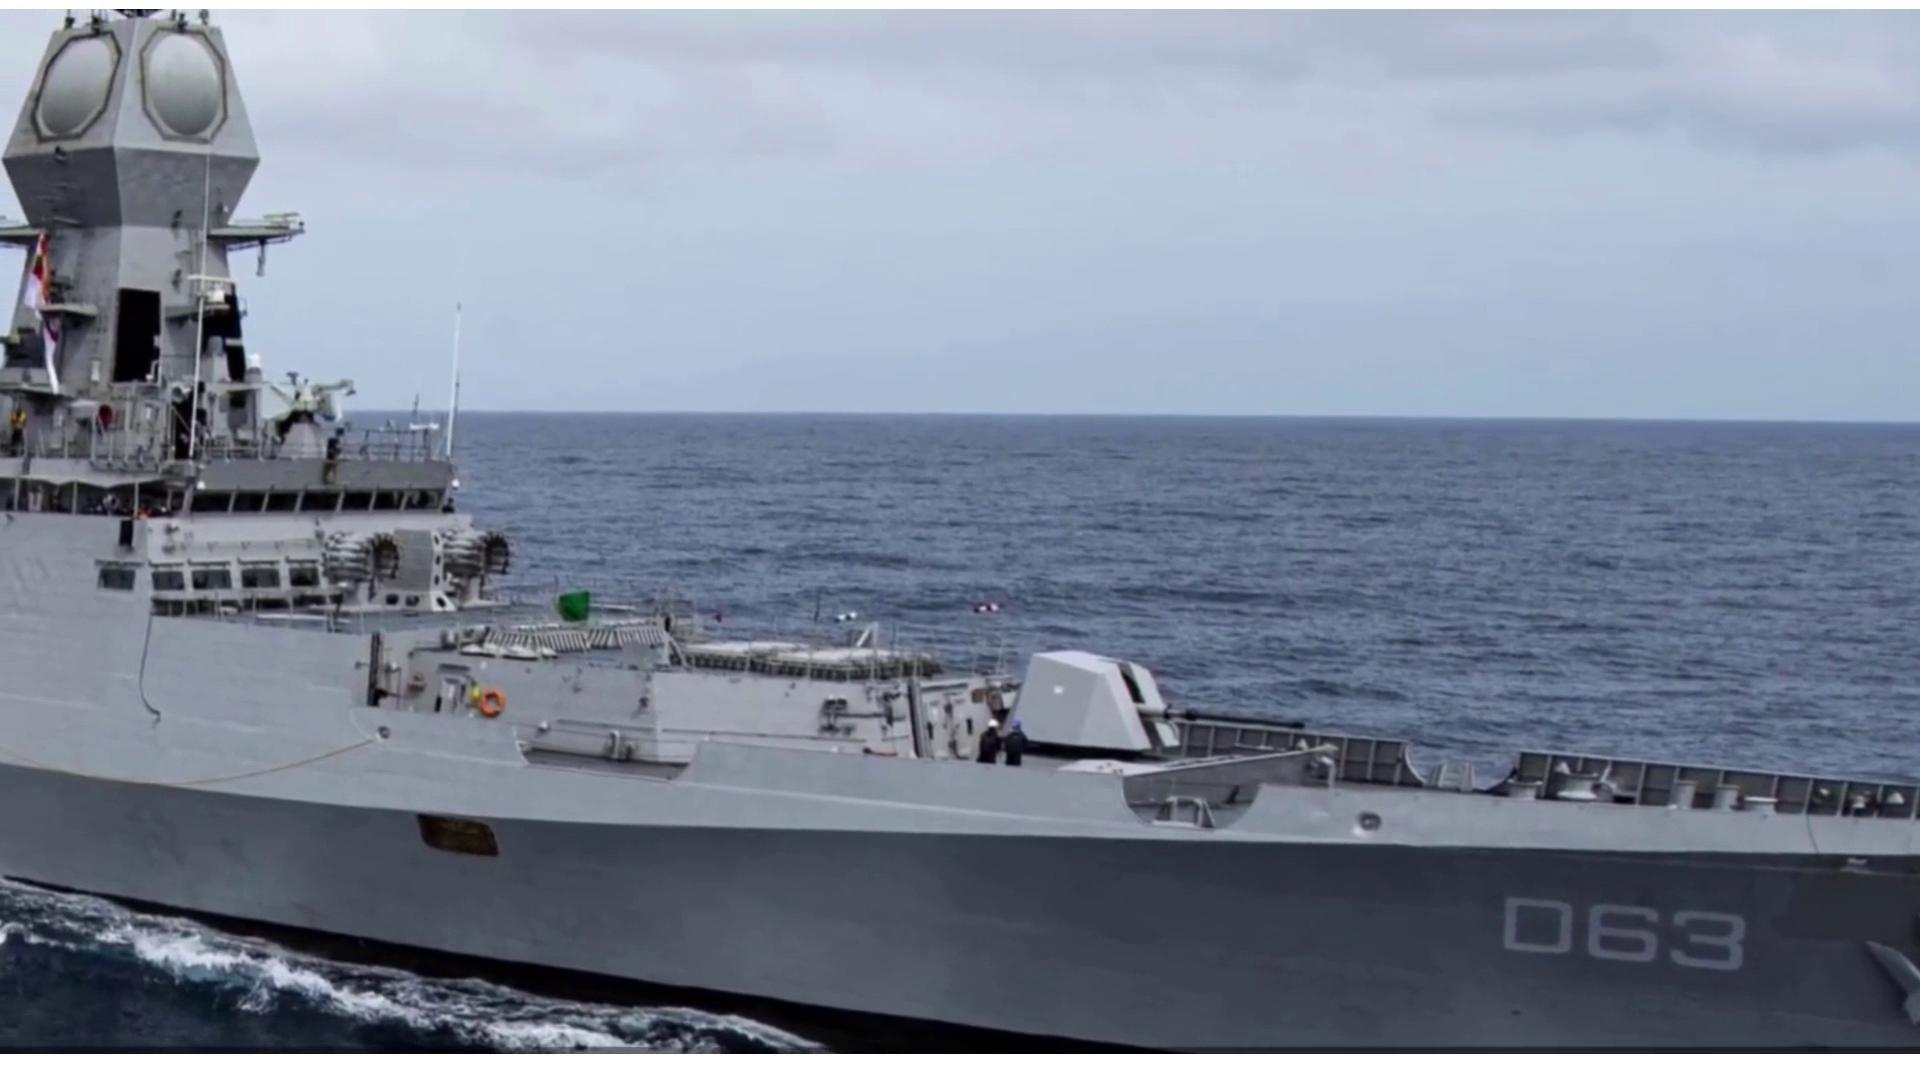OCR: (1495, 884, 1760, 982)
